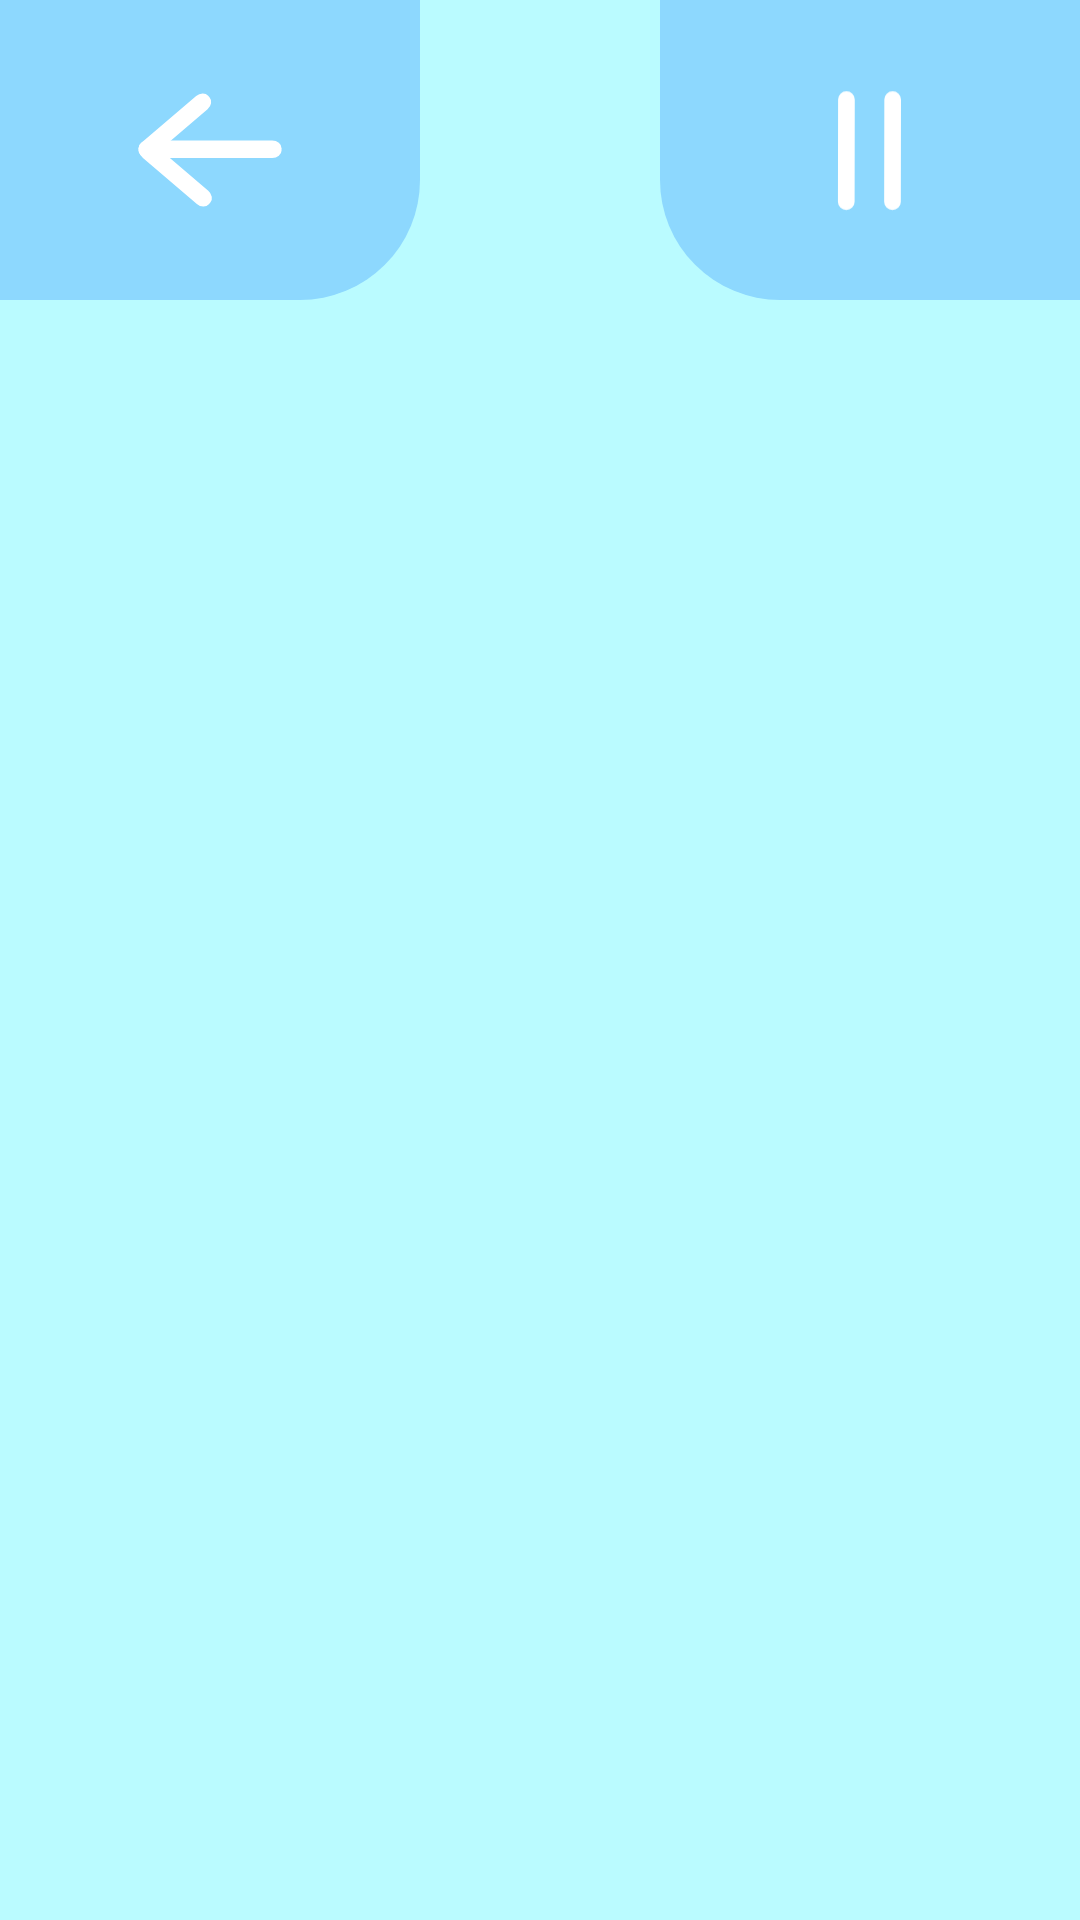

Screen size 1080 x 1920. Icon name, then its center in pixels as (x,y):
left: (210,150)
pause: (869,150)
